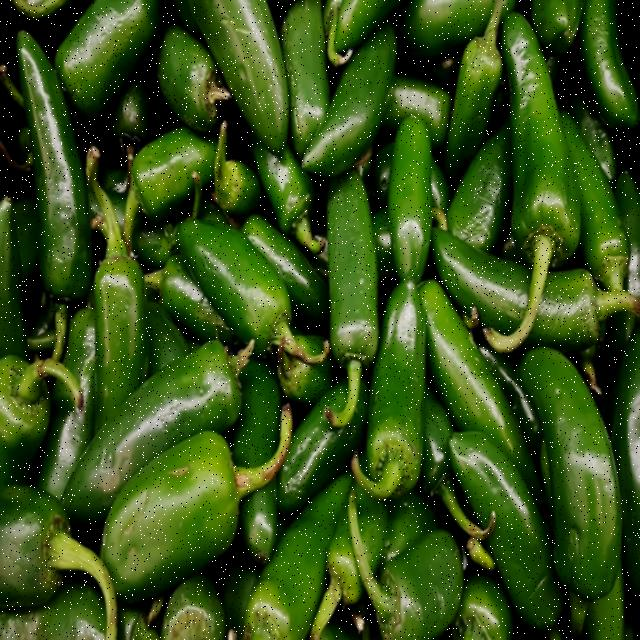Chili Pepper: (478, 6, 598, 292), (109, 399, 270, 602), (7, 19, 100, 342), (178, 184, 310, 363), (368, 261, 456, 528)
